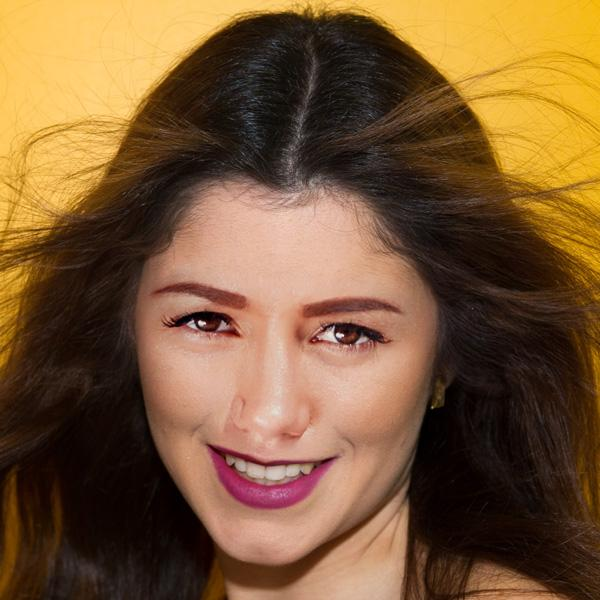Eyes: (298, 311, 394, 366), (159, 297, 253, 351)
